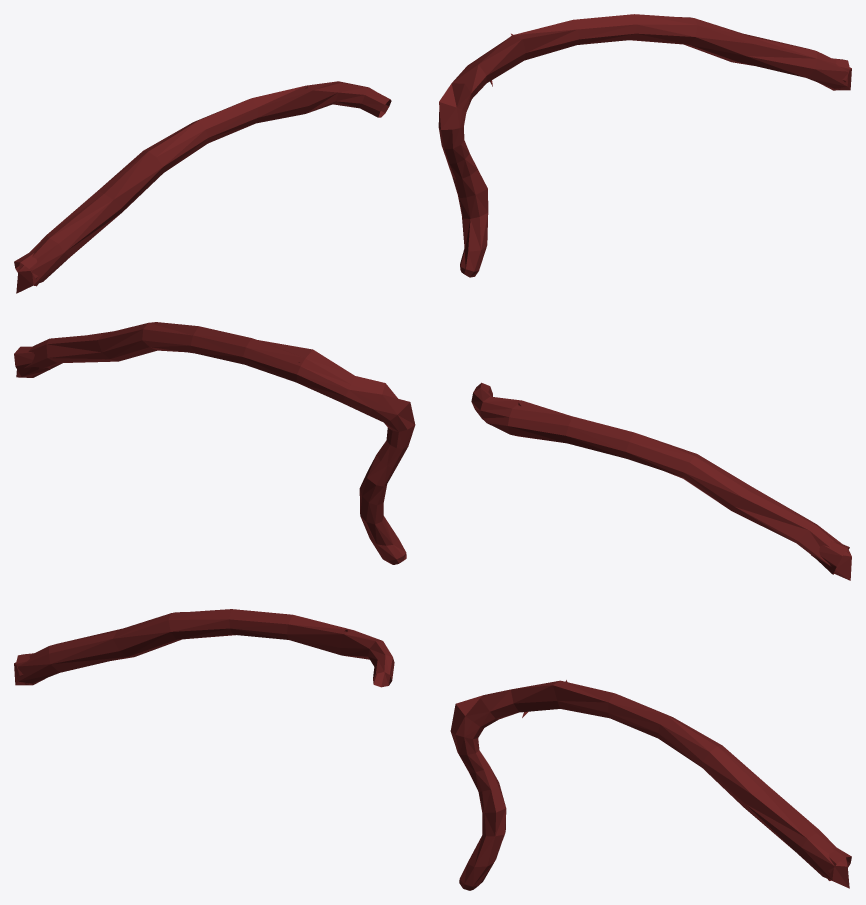
Rendered from Artéria Subclavia.FBX.
The picture shows the model from 3 angles, top to bottom: view 1: azimuth 30°, elevation 25°; view 2: azimuth 150°, elevation 25°; view 3: azimuth 330°, elevation 25°; orthographic projection.
Visible parts, largest first — view 1: CS_Arterie; view 2: CS_Arterie; view 3: CS_Arterie.
Part boxes in pixels (x1=…): CS_Arterie: x1=14, y1=14, x2=851, y2=293; CS_Arterie: x1=14, y1=322, x2=851, y2=580; CS_Arterie: x1=14, y1=609, x2=851, y2=890.
Size of the model in its own units: 777 by 188 by 62.05.
